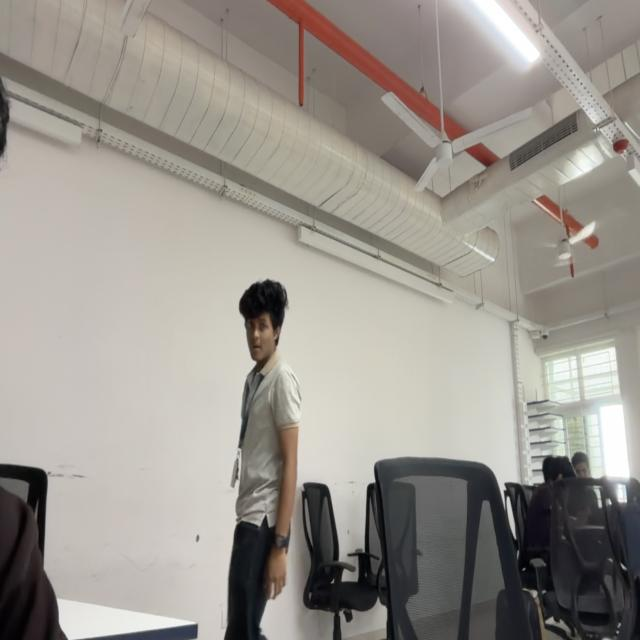kshitij: (240, 282, 286, 363)
